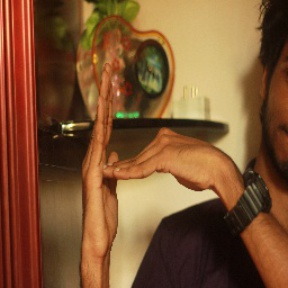Z: (77, 62, 221, 254)
